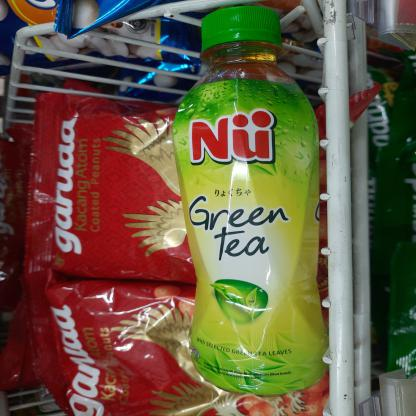plastic: (164, 2, 322, 399)
